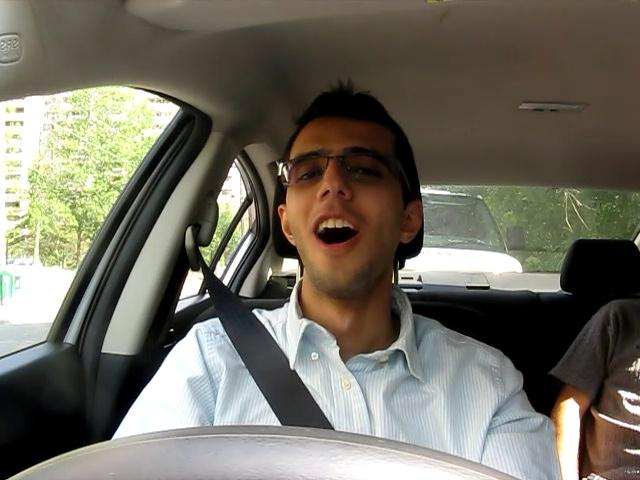close_eyeL: (288, 161, 334, 188)
close_eyeR: (337, 160, 398, 190)
yawn: (298, 212, 374, 255)
